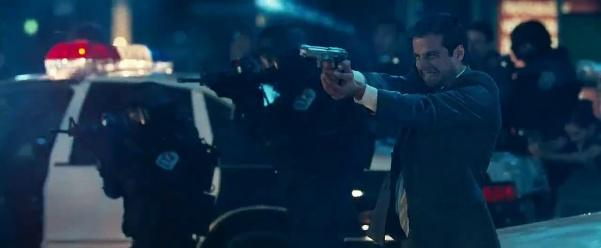Gun: (300, 40, 348, 71)
